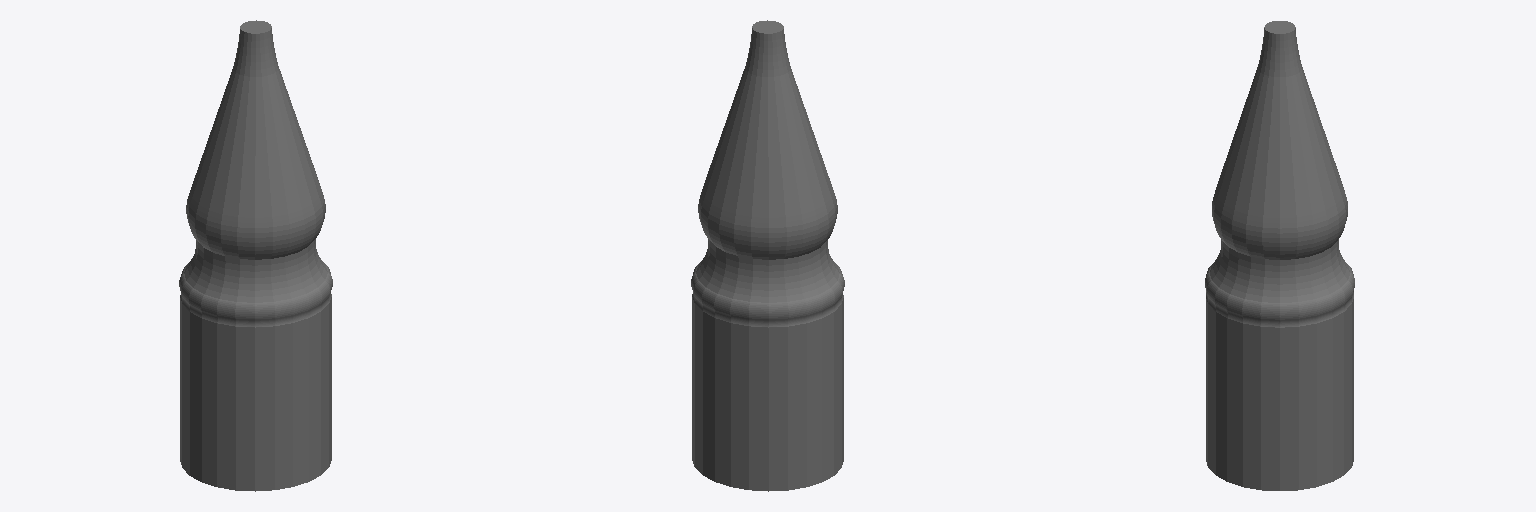
robot.urdf — object:
<?xml version="1.0"?>
<robot name="object">
  <link name="object">
    <visual>
      <origin xyz="0 0 0"/>
      <geometry>
        <mesh
          filename="../../mesh/oakink_virtual/cylinder_bottle_s417.stl" />
      </geometry>
      <material name="mat">
        <color rgba="0.5 0.5 0.5 1"/>
      </material>
    </visual>

    <collision>
      <origin xyz="0 0 0"/>
      <geometry>
        <mesh
          filename="../../mesh/oakink_virtual/cylinder_bottle_s417.stl" />
      </geometry>
    </collision>
  </link>
</robot>

--- Facts derived from the render (not from the file) ---
Views: 3 orthographic renders of the robot side by side, from view 1: azimuth 30°, elevation 25°; view 2: azimuth 150°, elevation 25°; view 3: azimuth 270°, elevation 25°.
Model object with 1 links and 0 joints (none), rooted at object, posed all joints at 0.
Links seen in each view (by area): view 1: object; view 2: object; view 3: object.
Boxes of the visible links, <box> form: object: <box>179,20,332,491</box>; object: <box>691,20,844,491</box>; object: <box>1205,21,1354,490</box>.
Bounding box of the posed robot: 0.0633 × 0.0617 × 0.1951 m (x, y, z).
1 mesh visuals loaded from 1 distinct referenced files (1 binary STL).